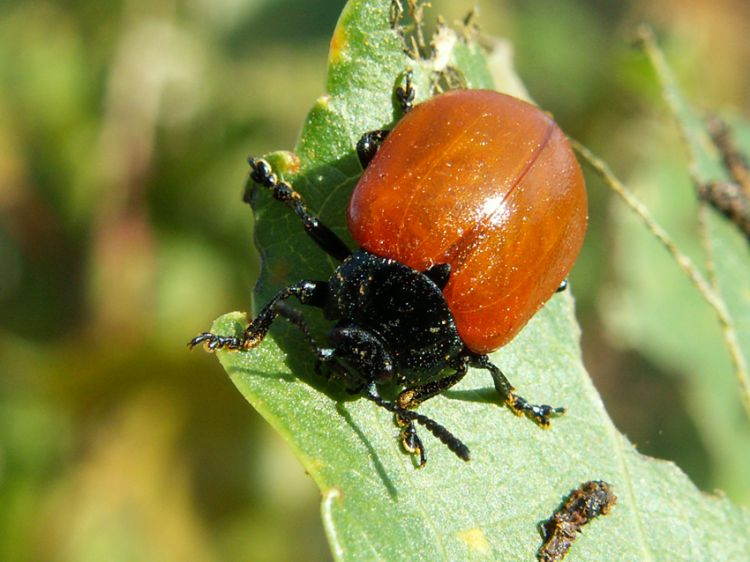Chrysomela_populi: (181, 66, 591, 467)
